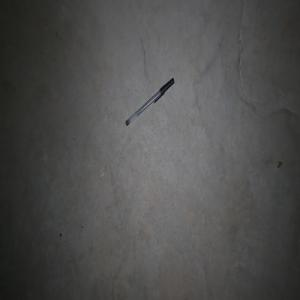Pen: (125, 77, 174, 126)
